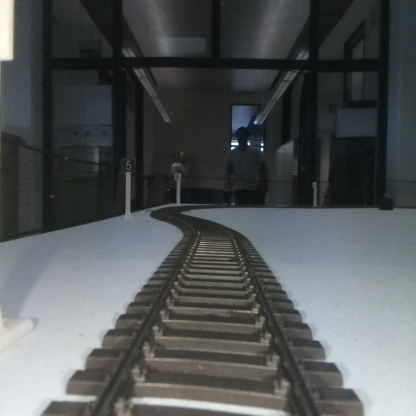black-info-5: (122, 159, 135, 218)
